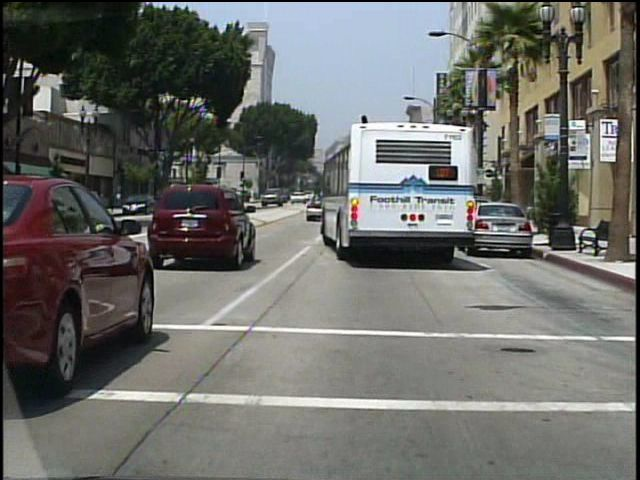person: (476, 182, 489, 225)
